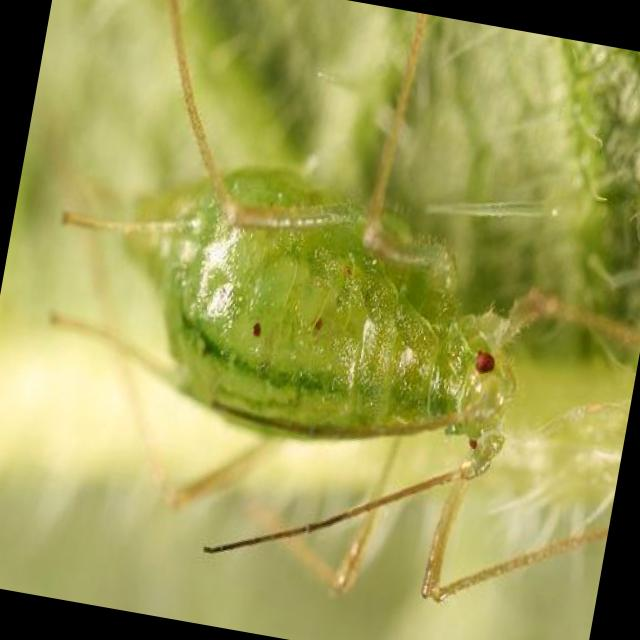Aphids: (12, 11, 640, 606)
